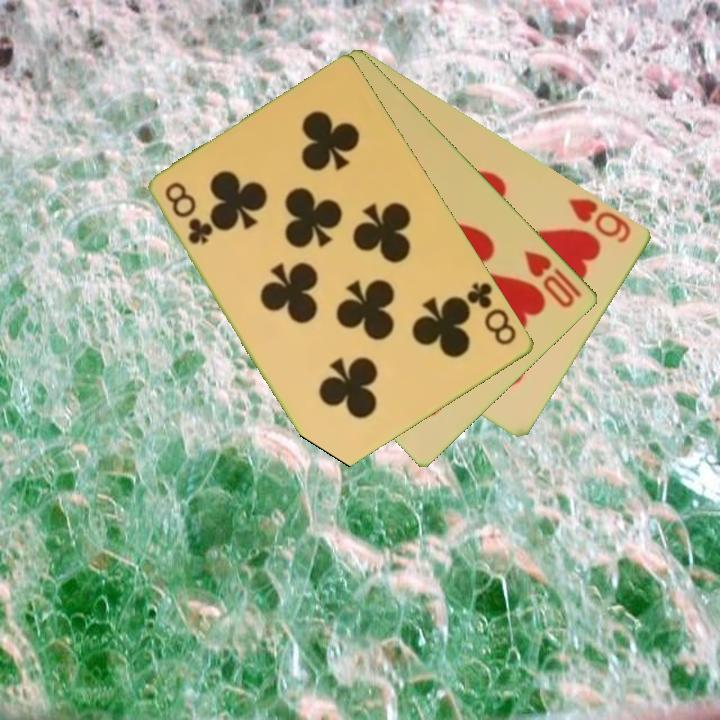10h: (521, 247, 586, 311)
6h: (565, 194, 635, 246)
8c: (463, 278, 520, 349), (162, 178, 216, 248)
